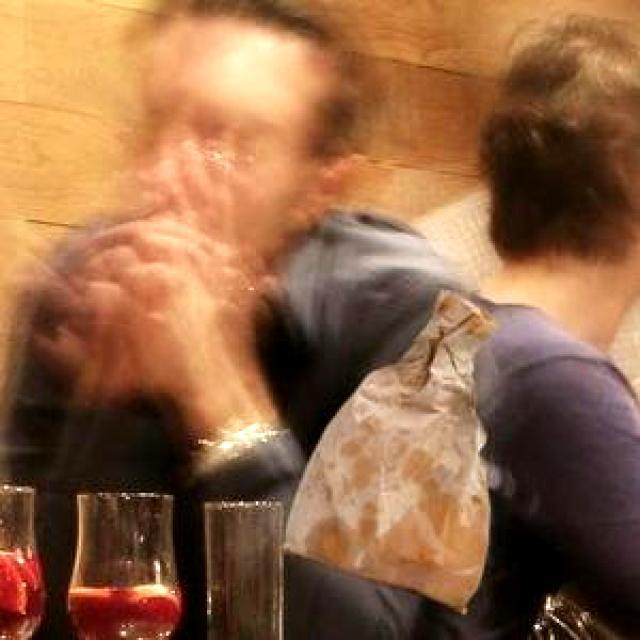Paper_Bag: (278, 286, 498, 612)
